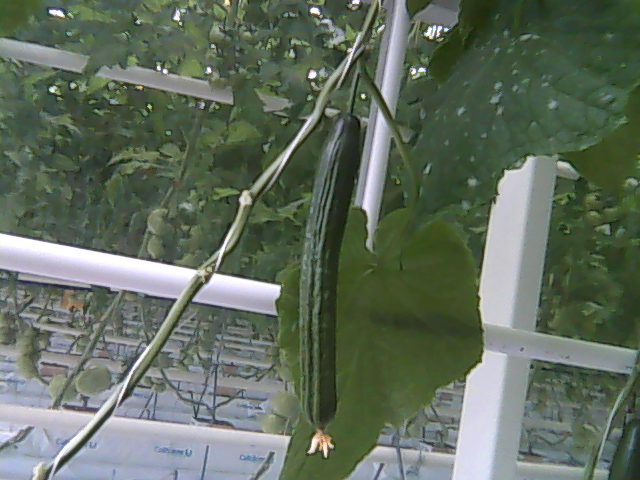concombre: (296, 104, 365, 460)
